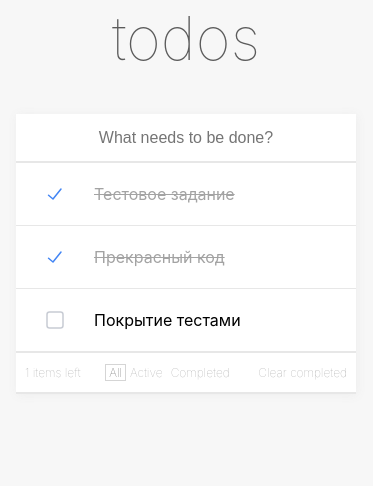
Test case: TEST APP › add todo and handle duplicate
Check: the text "qwerty" is not shown
Type "qwerty" into the field with placeholder "What needs to be done?" at (186, 138), box [18,114,354,161]
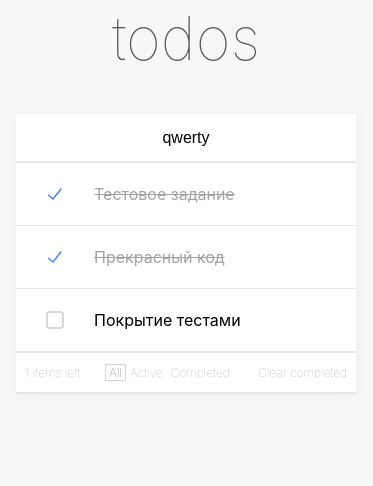
Submit the form with test id "createTodoForm", box [16,114,356,161]
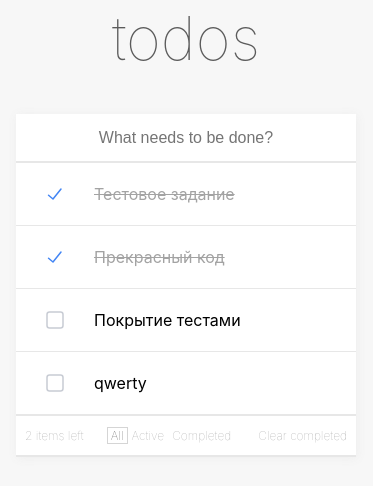
Check: the text "qwerty" is shown, box [94,373,147,393]
Type "qwerty" into the field with placeholder "What needs to be done?" at (186, 138), box [18,114,354,161]
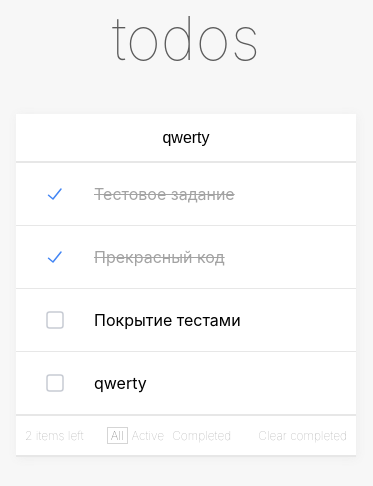
Submit the form with test id "createTodoForm", box [16,114,356,161]
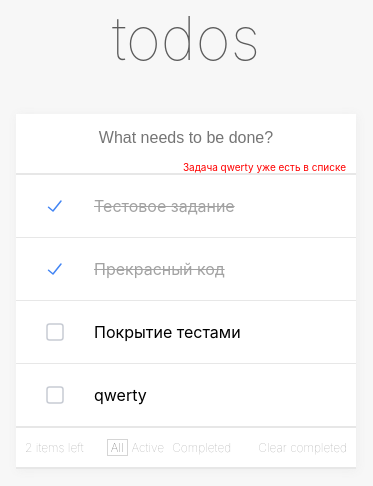
Check: the text "Задача qwerty уже есть в списке" is shown, box [183,161,346,173]
